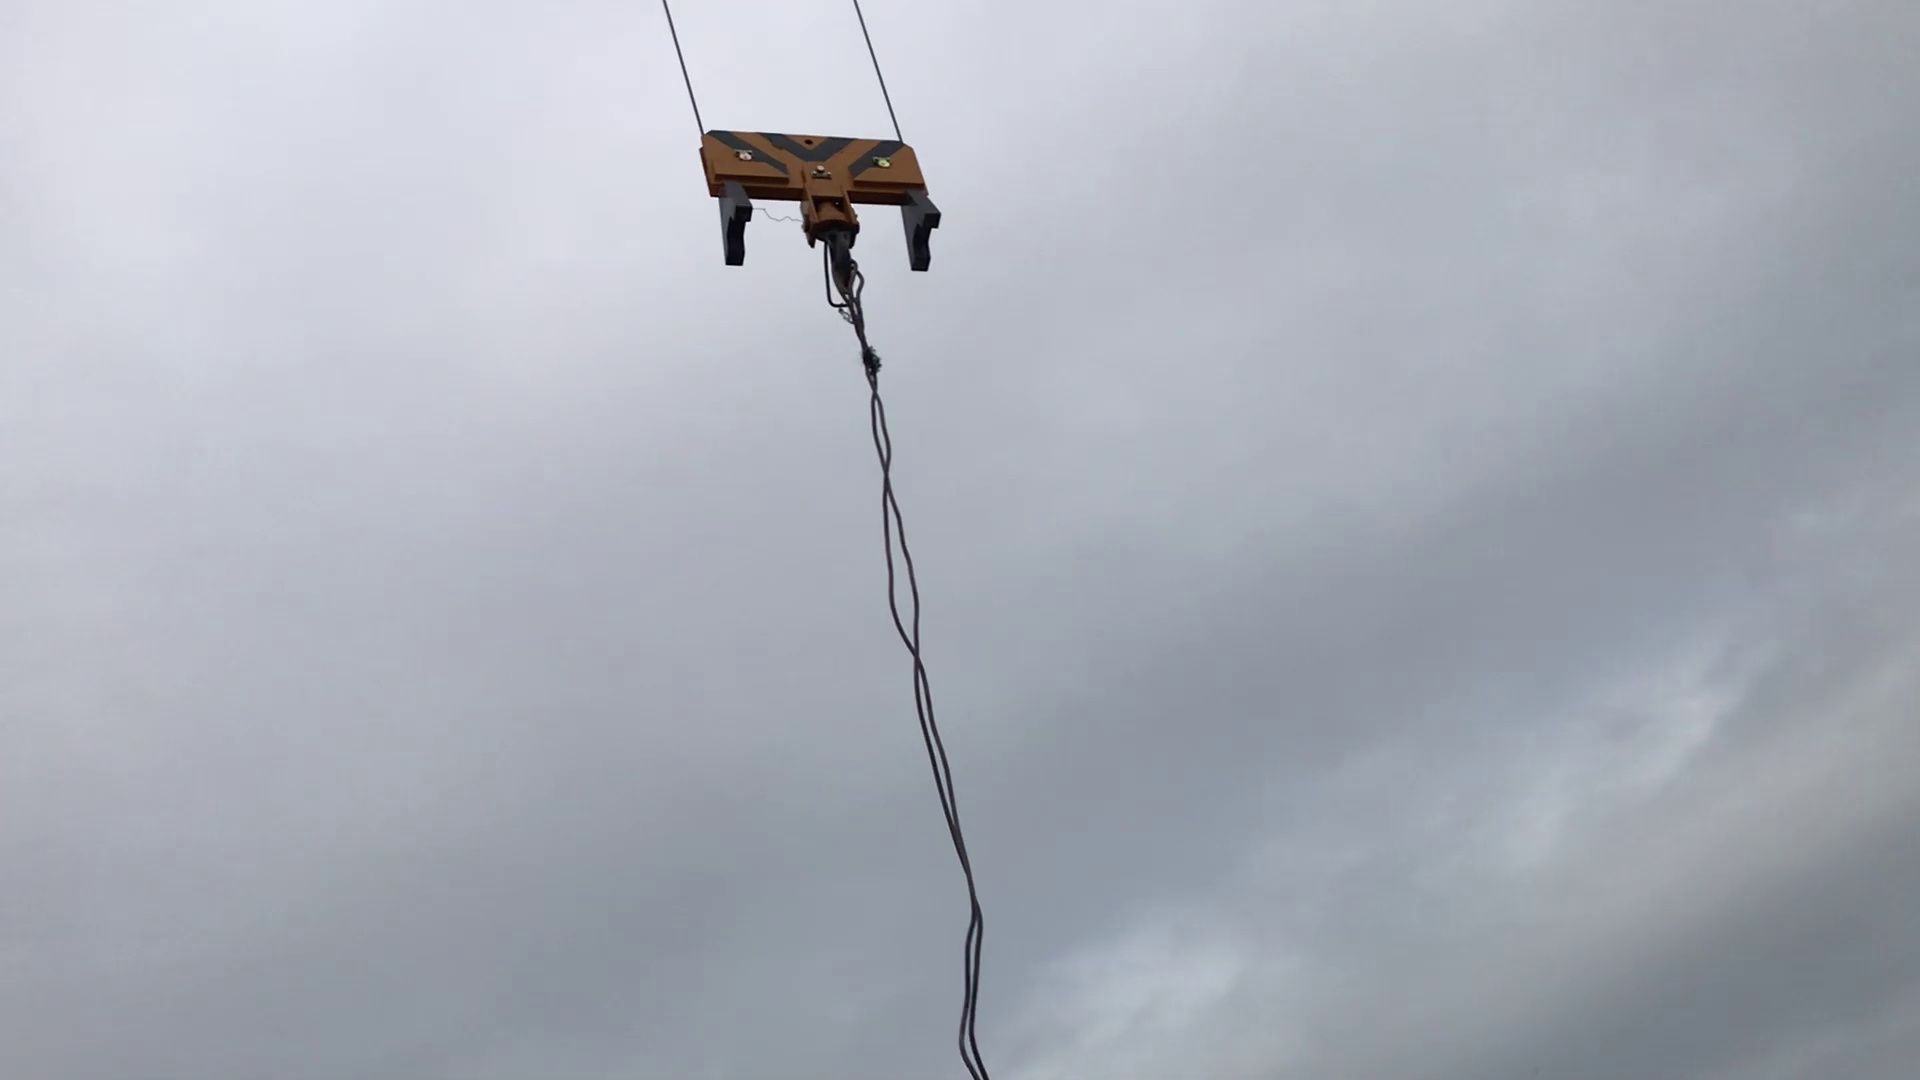hook: (675, 103, 973, 280)
